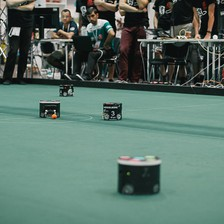ball: (49, 111, 56, 119)
robot: (113, 153, 165, 196), (99, 100, 124, 122), (36, 97, 61, 119), (57, 83, 74, 97)
